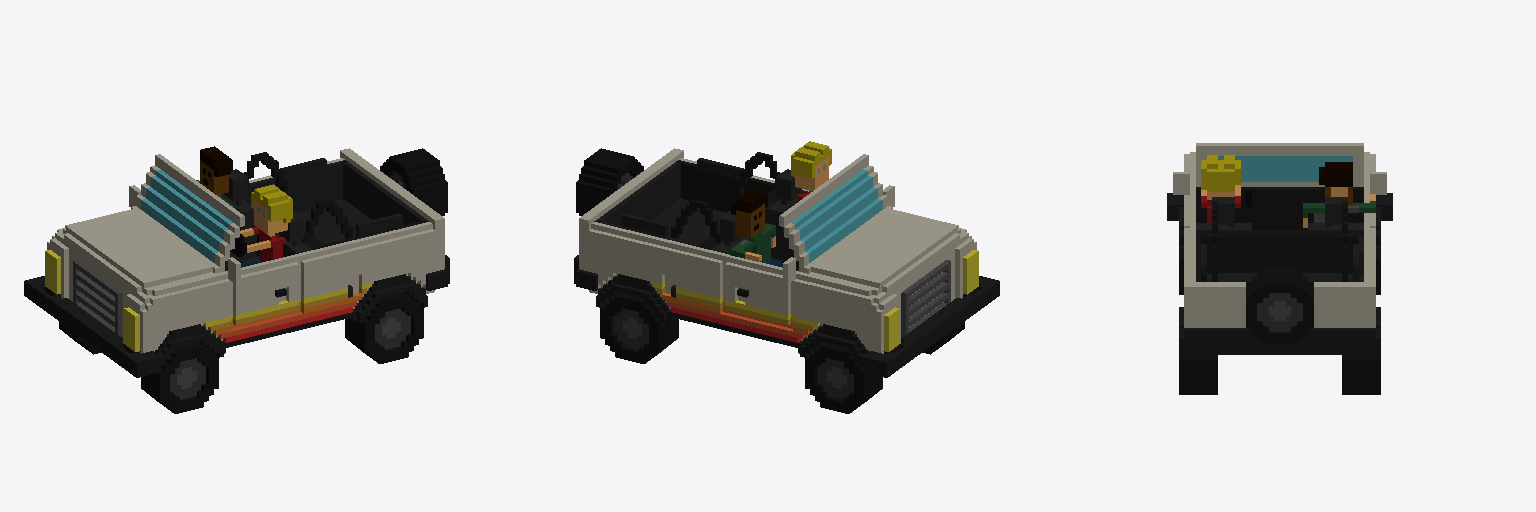
3 renders of one model, left to right at view 1: azimuth 30°, elevation 25°; view 2: azimuth 150°, elevation 25°; view 3: azimuth 270°, elevation 25°, orthographic.
Visible parts, largest first — view 1: object 1; view 2: object 1; view 3: object 1.
Boxes of the visible parts, x1,y1,x2,y2 form: object 1: [24, 146, 449, 413]; object 1: [574, 141, 999, 413]; object 1: [1167, 143, 1392, 394].
Size of the model in its own units: 7.2 by 3.5 by 4.
1 materials, 1 textured.